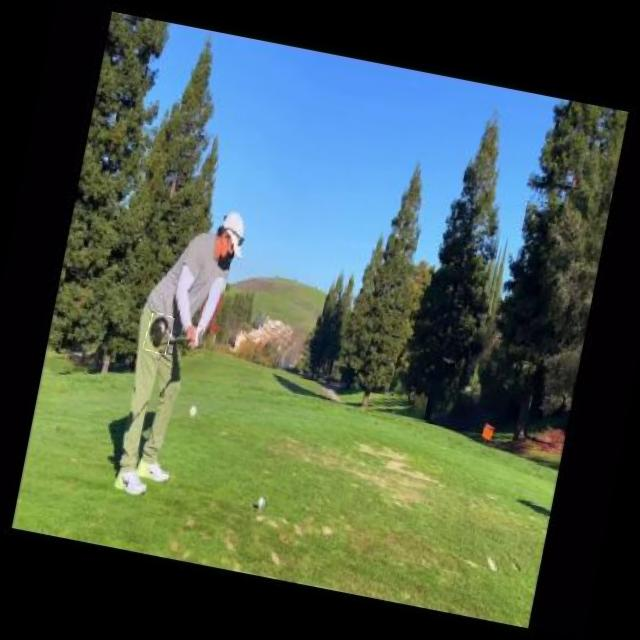club head: (143, 312, 175, 356)
